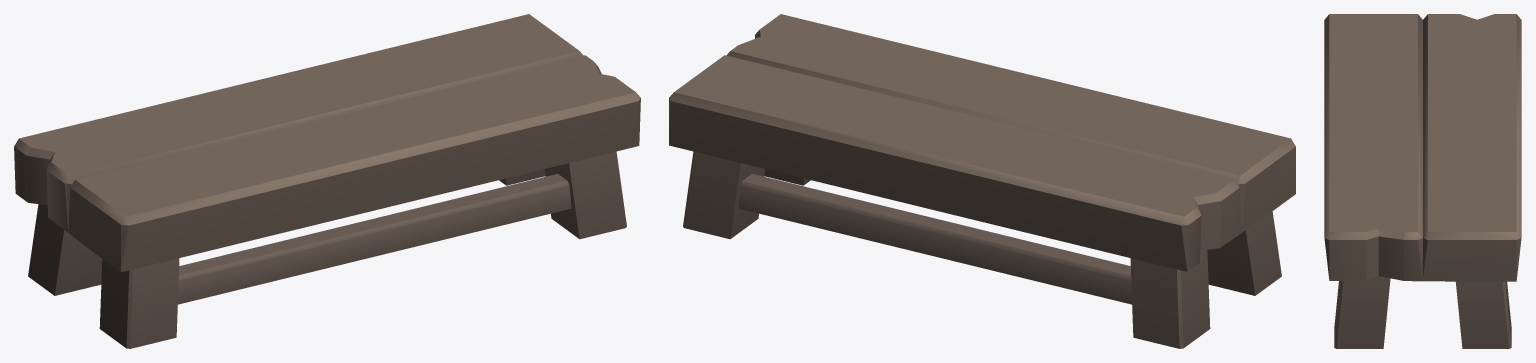
Rendered from bench.obj.
The picture shows the model from 3 angles, left to right: view 1: azimuth 30°, elevation 25°; view 2: azimuth 150°, elevation 25°; view 3: azimuth 270°, elevation 25°; orthographic projection. The views are drawn at different scales.
Visible parts, largest first — view 1: bench_Cube.117; view 2: bench_Cube.117; view 3: bench_Cube.117.
Part boxes in pixels (left/top/right/bottom): bench_Cube.117: left=14, top=14, right=640, bottom=348; bench_Cube.117: left=669, top=14, right=1295, bottom=348; bench_Cube.117: left=1324, top=14, right=1521, bottom=348.
Size of the model in its own units: 2 by 0.5 by 0.75.
1 material, 1 textured.
